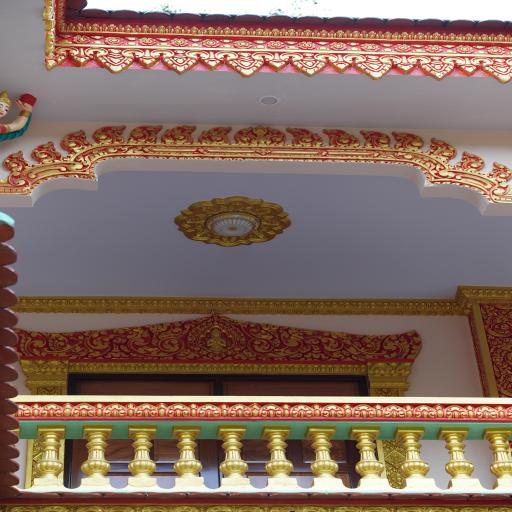hoa: (297, 41, 317, 51), (330, 40, 348, 51), (105, 36, 123, 46), (233, 40, 253, 49), (202, 39, 220, 48), (266, 40, 284, 49), (361, 43, 379, 52), (456, 45, 474, 54), (487, 46, 505, 55), (139, 37, 156, 46), (171, 38, 188, 47), (394, 43, 411, 52), (424, 45, 443, 53), (74, 35, 90, 44)
la: (215, 50, 274, 78), (86, 47, 144, 75), (344, 54, 402, 81), (280, 52, 339, 78), (151, 50, 210, 75), (408, 56, 466, 81), (54, 45, 108, 67), (122, 48, 176, 70), (186, 50, 238, 72), (252, 51, 304, 73), (315, 53, 366, 75), (471, 57, 512, 82), (380, 55, 431, 75), (443, 57, 494, 77), (290, 402, 315, 418), (259, 402, 284, 417), (106, 400, 128, 416), (168, 401, 190, 417), (228, 402, 253, 416), (72, 402, 96, 416), (198, 402, 222, 416), (136, 403, 159, 417), (351, 403, 375, 416), (384, 402, 406, 416), (476, 404, 497, 418), (324, 403, 345, 417), (445, 404, 467, 417), (370, 363, 392, 376), (415, 404, 436, 417), (42, 403, 62, 416), (13, 402, 31, 416), (36, 386, 62, 395), (375, 388, 400, 397), (47, 360, 62, 374), (312, 402, 325, 418), (404, 403, 416, 418), (464, 404, 476, 418), (372, 403, 384, 417), (157, 402, 168, 417), (250, 403, 262, 416), (434, 404, 446, 417), (398, 363, 410, 376), (219, 402, 230, 416), (62, 402, 72, 416), (282, 403, 292, 417), (190, 402, 200, 415), (32, 402, 41, 416), (96, 403, 106, 415), (497, 406, 507, 418), (190, 26, 202, 35), (74, 22, 84, 32), (141, 24, 151, 34), (108, 23, 118, 32), (124, 24, 134, 33), (173, 26, 184, 34), (223, 26, 232, 35), (207, 27, 217, 35), (238, 27, 248, 35), (319, 29, 329, 37), (336, 30, 346, 38), (384, 32, 394, 40), (128, 403, 134, 416), (83, 23, 92, 31), (158, 25, 167, 33), (248, 27, 256, 36), (272, 28, 280, 37), (296, 28, 304, 37), (449, 33, 458, 41), (497, 34, 506, 42), (136, 362, 144, 371), (212, 363, 220, 372), (266, 364, 274, 373), (286, 364, 294, 373), (232, 26, 239, 36), (329, 28, 336, 38), (368, 31, 378, 38), (361, 364, 368, 374), (60, 23, 68, 31), (92, 23, 100, 31), (256, 28, 264, 36), (264, 28, 272, 36), (288, 28, 296, 36), (305, 29, 313, 37), (345, 30, 353, 38), (353, 30, 361, 38), (360, 30, 368, 38), (393, 31, 401, 39), (409, 32, 417, 40), (433, 32, 441, 40), (466, 32, 474, 40), (474, 33, 482, 41), (143, 363, 151, 371), (157, 364, 165, 372), (170, 364, 178, 372), (184, 363, 192, 371), (306, 364, 314, 372), (101, 23, 108, 32), (134, 24, 141, 33), (151, 24, 158, 33), (417, 32, 426, 39), (280, 364, 287, 373), (320, 364, 327, 373), (334, 364, 341, 373), (507, 406, 512, 418), (328, 364, 334, 374), (183, 26, 190, 34), (216, 26, 223, 34), (281, 28, 288, 36), (402, 32, 410, 39), (426, 32, 433, 40), (458, 33, 465, 41), (103, 362, 110, 370), (198, 364, 205, 372), (205, 364, 212, 372), (233, 364, 240, 372), (239, 364, 246, 372), (293, 364, 300, 372), (300, 364, 307, 372), (490, 33, 496, 42), (96, 362, 102, 371), (110, 362, 116, 371), (116, 362, 122, 371), (260, 364, 266, 373), (342, 364, 348, 373), (348, 364, 354, 373), (354, 364, 360, 373), (88, 362, 94, 371), (225, 364, 232, 371), (67, 24, 75, 30), (118, 24, 124, 32), (168, 25, 174, 33), (200, 26, 206, 34), (314, 29, 320, 37), (378, 30, 384, 38), (442, 32, 448, 40), (506, 34, 512, 42), (150, 363, 156, 371), (178, 364, 184, 372), (247, 364, 253, 372), (254, 364, 260, 372), (274, 364, 280, 372), (314, 364, 320, 372), (482, 34, 489, 40), (82, 363, 88, 370), (129, 363, 135, 370), (192, 364, 198, 371), (220, 364, 226, 371), (75, 362, 80, 370), (124, 362, 129, 370), (165, 363, 170, 371), (69, 362, 73, 370)
lua: (249, 328, 342, 359), (87, 329, 186, 358), (343, 332, 417, 360), (17, 329, 86, 357), (235, 125, 286, 145), (322, 128, 360, 148), (393, 130, 425, 152), (130, 123, 163, 144), (199, 123, 232, 144), (287, 127, 322, 146), (94, 124, 127, 144), (429, 137, 456, 161), (32, 141, 62, 162), (164, 124, 195, 144), (360, 128, 390, 148), (63, 129, 90, 151), (456, 151, 484, 171), (488, 160, 512, 181), (4, 150, 29, 170), (342, 403, 355, 417)
than: (189, 314, 247, 360)
